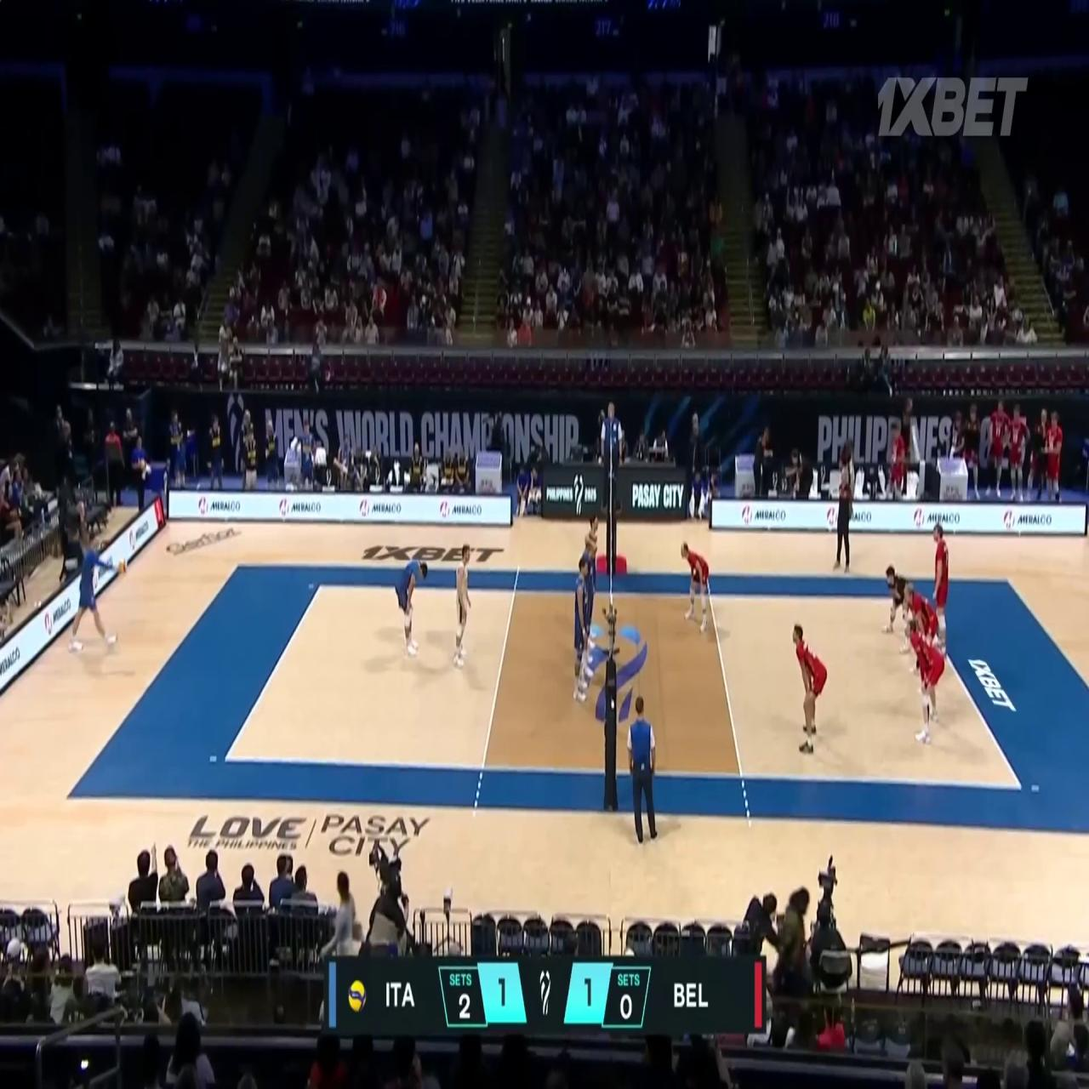ball: (120, 559, 126, 575)
